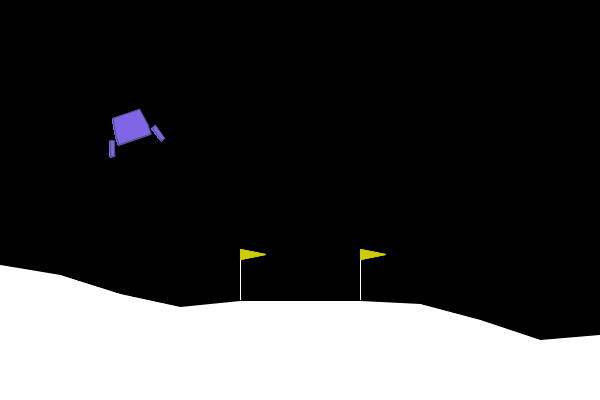lander: (97, 102, 166, 160)
